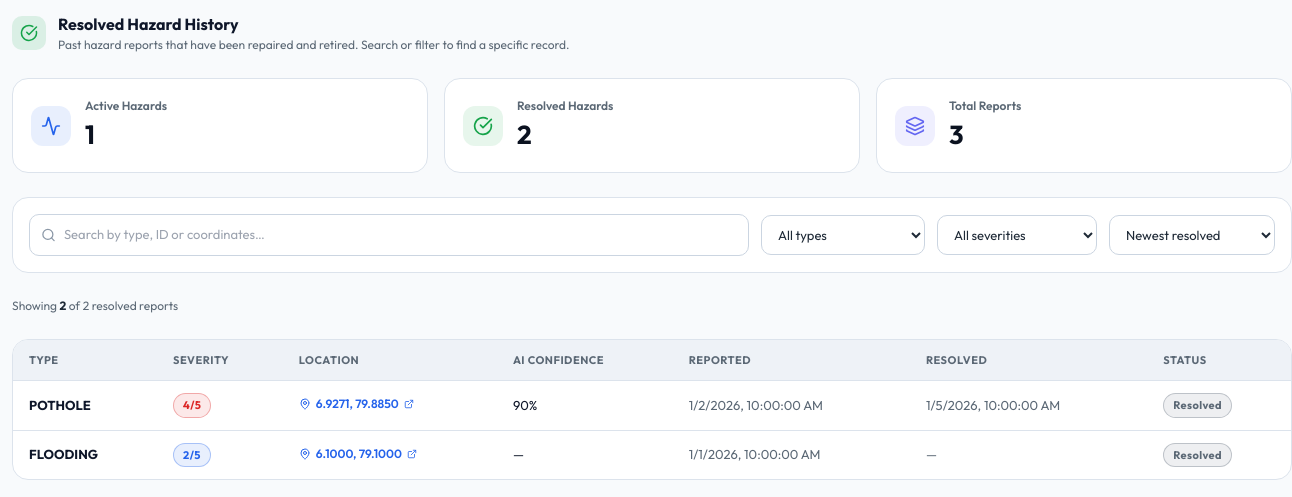
Test: ResolvedHazardsView › narrows the list by text search
In the field with placeholder "Search by type, ID or coordinates…": [389, 235] box top-left (29, 214), bottom-right (749, 256), type "flooding"
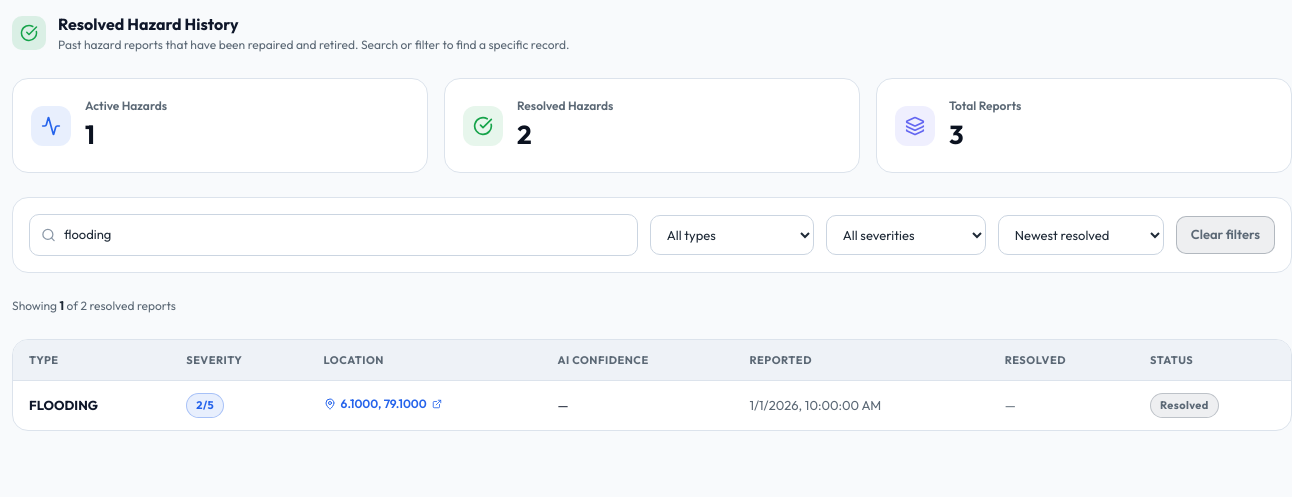
Expected: the text "FLOODING" is shown, top-left (29, 396), bottom-right (98, 412)
Expected: the text "POTHOLE" is gone
Expected: the text "Showing 1 of 2 resolved reports" is shown, top-left (12, 298), bottom-right (176, 312)
